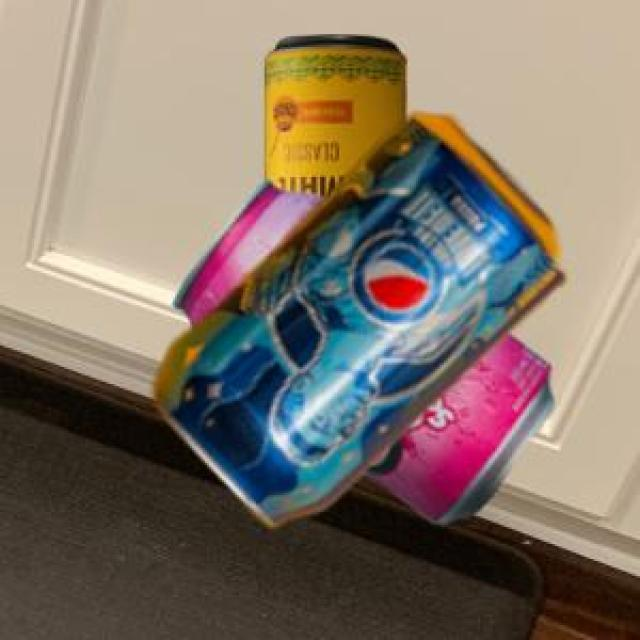Can: (153, 110, 560, 522), (170, 178, 549, 519), (261, 33, 402, 197)
